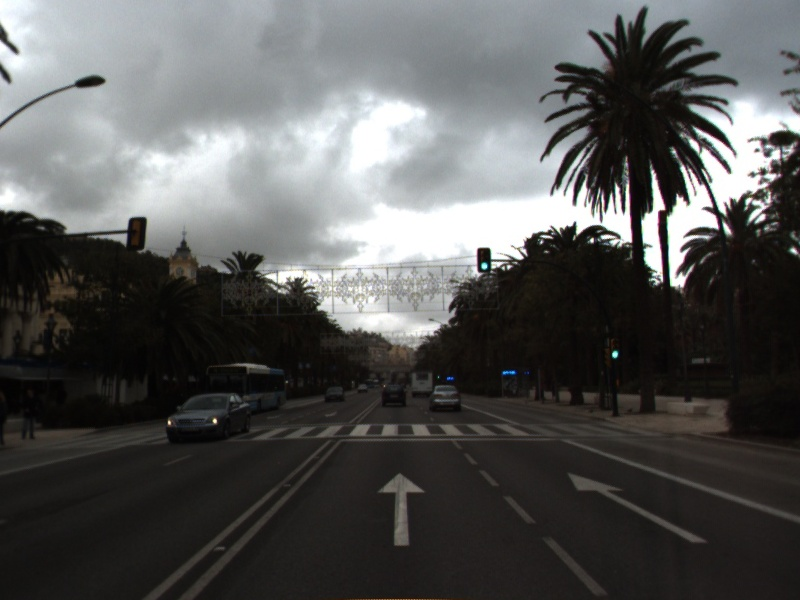STRAIGHT: (566, 471, 710, 545), (375, 470, 427, 547)
